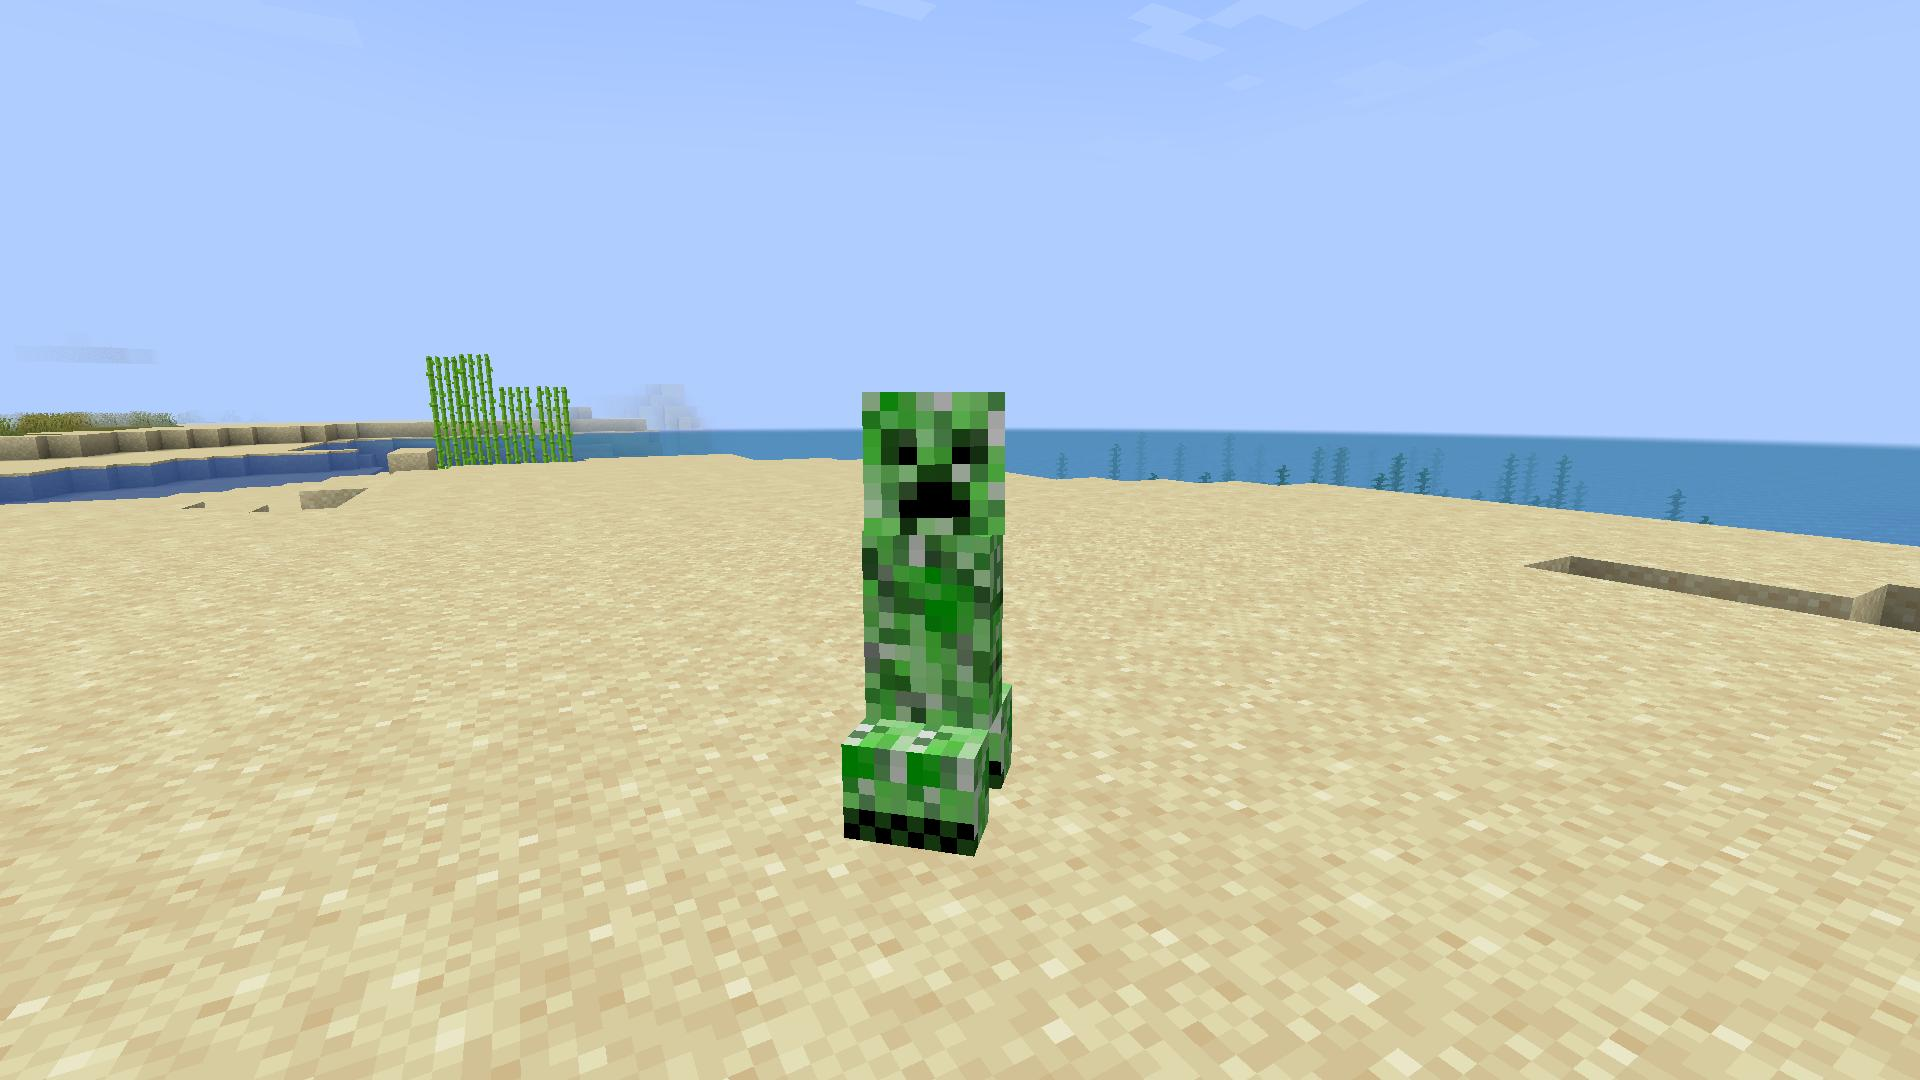creeper: (832, 378, 1018, 858)
